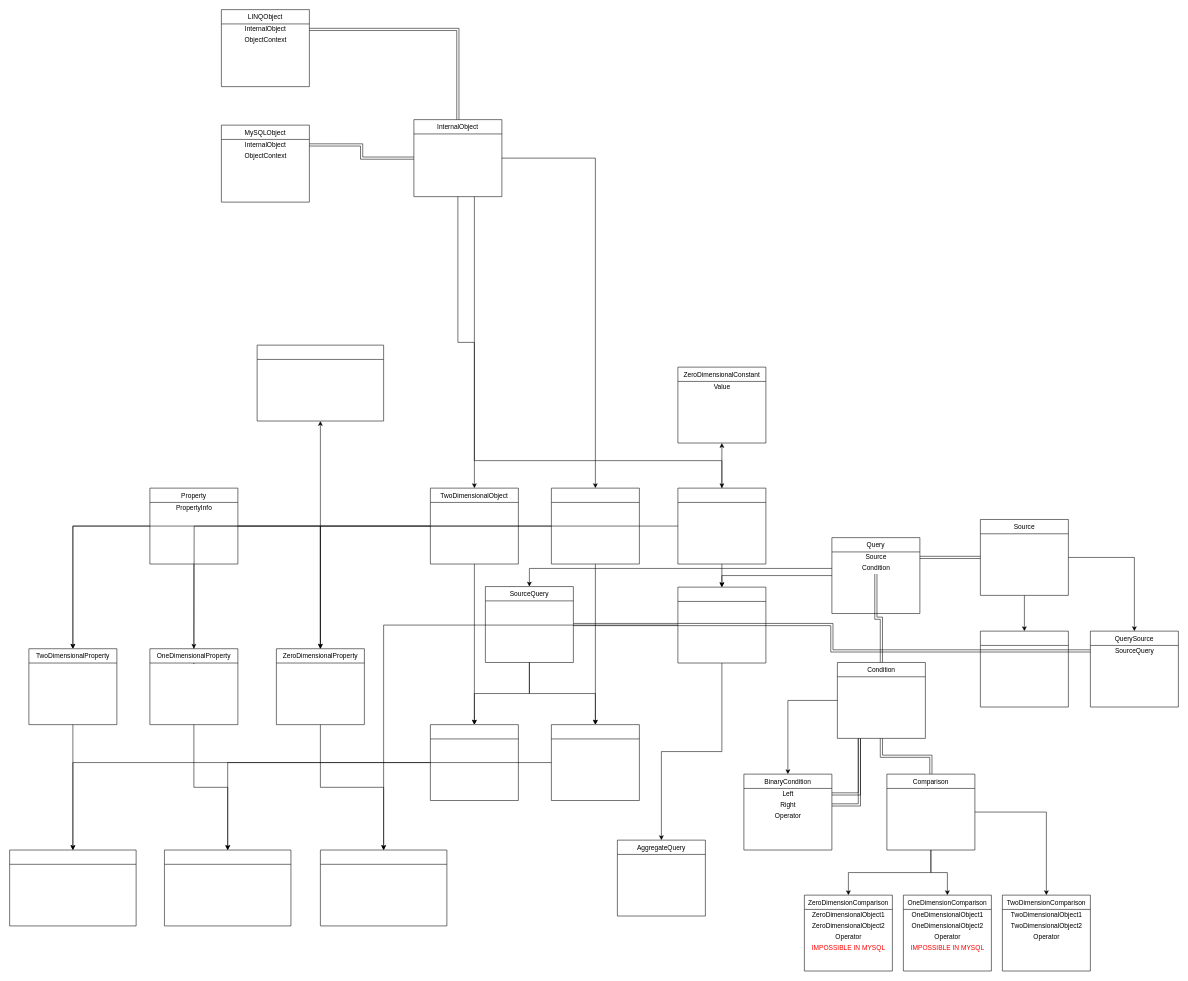
Image size: 1188x981. Some labels were removed from this diagram. The centre of each missing label's shape, as x and y in pixels:
"OneDimensionalObject" belongs at (x=595, y=526).
"OneDimensionalPropertyQuery" belongs at (x=227, y=887).
"OneDimensionalQuery" belongs at (x=595, y=762).
"TableSource" belongs at (x=1024, y=669).
"TwoDimensionalPropertyQuery" belongs at (x=72, y=887).
"TwoDimensionalQuery" belongs at (x=474, y=762).
"ZeroDimensionalObject" belongs at (x=721, y=526).
"ZeroDimensionalPropertyQuery" belongs at (x=383, y=887).
"ZeroDimensionalPropertyValue" belongs at (x=320, y=383).
"ZeroDimensionalQuery" belongs at (x=721, y=625).
